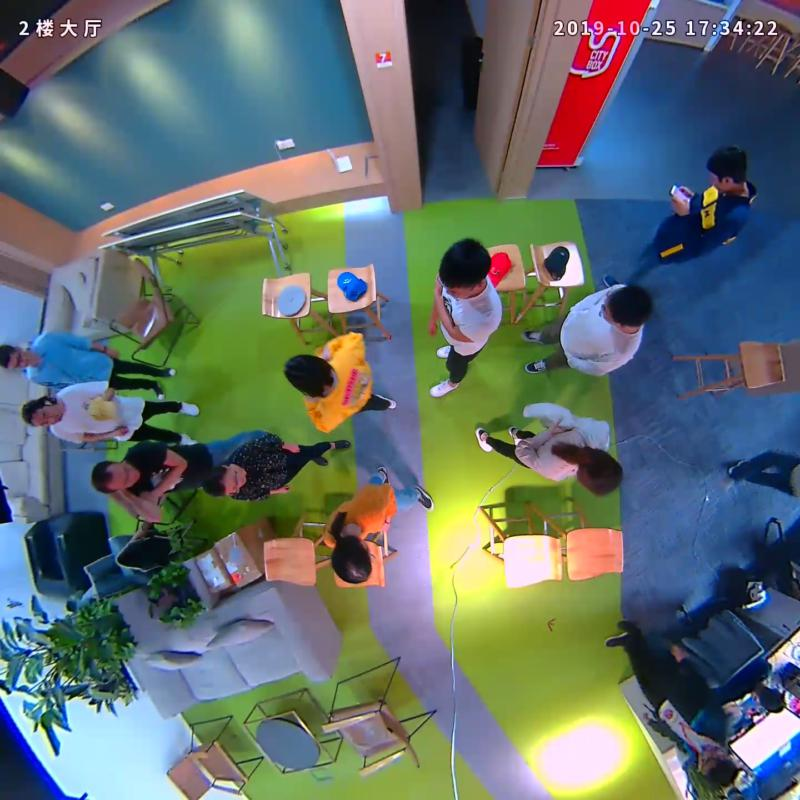head: (438, 237, 492, 299), (576, 448, 624, 497), (602, 285, 652, 327), (331, 535, 372, 585), (707, 145, 747, 194), (284, 354, 332, 393), (697, 746, 737, 787), (91, 459, 140, 492), (203, 464, 247, 497), (22, 398, 61, 427), (1, 344, 35, 369)
